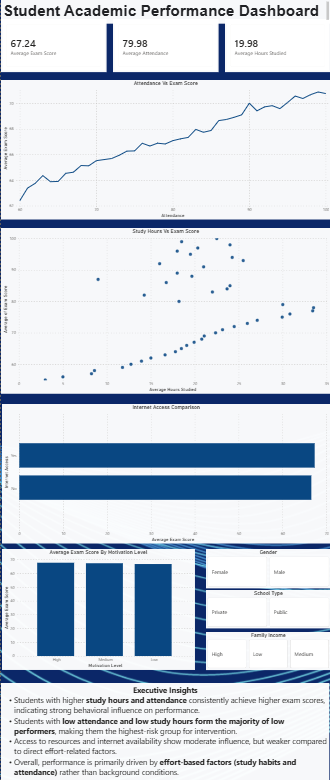

Layout of this report page (visuals, bound fields, positions):
{"tool":"powerbi","page":{"name":"Page 1","canvas":[1035,2460],"ordinal":0},"visuals":[{"type":"clusteredColumnChart","title":"Average Exam Score By Motivation Level","fields":{"Category":["StudentPerformanceFactors.Motivation_Level"],"Y":["Avg(StudentPerformanceFactors.Exam_Score)"]},"box":[3.8,1715,602.5,377.5],"z":0},{"type":"scatterChart","title":"Study Hours Vs Exam Score","fields":{"X":["Avg(StudentPerformanceFactors.Hours_Studied)"],"Category":["StudentPerformanceFactors.Exam_Score"],"Y":["Avg(StudentPerformanceFactors.Exam_Score)"]},"box":[0,712,1030,518],"z":1000},{"type":"lineChart","title":"Attendance Vs Exam Score","fields":{"Y":["Avg(StudentPerformanceFactors.Exam_Score)"],"Category":["StudentPerformanceFactors.Attendance"]},"box":[0,248.8,1030,436.2],"z":2000},{"type":"clusteredBarChart","title":"Internet Access Comparison","fields":{"Y":["Avg(StudentPerformanceFactors.Exam_Score)"],"Category":["StudentPerformanceFactors.Internet_Access"]},"box":[3.8,1261.2,1026.2,436.2],"z":3000},{"type":"advancedSlicerVisual","fields":{"Values":["StudentPerformanceFactors.School_Type"]},"box":[640,1843.8,390,120],"z":4000},{"type":"advancedSlicerVisual","fields":{"Values":["StudentPerformanceFactors.Gender"]},"box":[640,1715,390,122.5],"z":5000},{"type":"advancedSlicerVisual","fields":{"Values":["StudentPerformanceFactors.Family_Income"]},"box":[640,1973.8,390,118.8],"z":6000},{"type":"cardVisual","fields":{"Data":["Avg(StudentPerformanceFactors.Exam_Score)"]},"box":[0,58,330,166],"z":6001},{"type":"cardVisual","fields":{"Data":["Avg(StudentPerformanceFactors.Attendance)"]},"box":[350,58,330,166],"z":6002},{"type":"cardVisual","fields":{"Data":["Avg(StudentPerformanceFactors.Hours_Studied)"]},"box":[700,58,330,166],"z":6003},{"type":"textbox","box":[0,0,1030,73.8],"z":6004},{"type":"textbox","box":[1.2,2135,1026.2,307.5],"z":6005}]}

Visuals, with their boxes in screenshot pixels (x1, y1, x2, y2), scaled from the page's 1035x2460 canvas onto the 330x780 screenshot:
"Average Exam Score By Motivation Level" clusteredColumnChart: 1:544:193:663
"Study Hours Vs Exam Score" scatterChart: 0:226:328:390
"Attendance Vs Exam Score" lineChart: 0:79:328:217
"Internet Access Comparison" clusteredBarChart: 1:400:328:538
advancedSlicerVisual - StudentPerformanceFactors.School_Type: 204:585:328:623
advancedSlicerVisual - StudentPerformanceFactors.Gender: 204:544:328:583
advancedSlicerVisual - StudentPerformanceFactors.Family_Income: 204:626:328:664
cardVisual - Avg(StudentPerformanceFactors.Exam_Score): 0:18:105:71
cardVisual - Avg(StudentPerformanceFactors.Attendance): 112:18:217:71
cardVisual - Avg(StudentPerformanceFactors.Hours_Studied): 223:18:328:71
textbox: 0:0:328:23
textbox: 0:677:328:774
